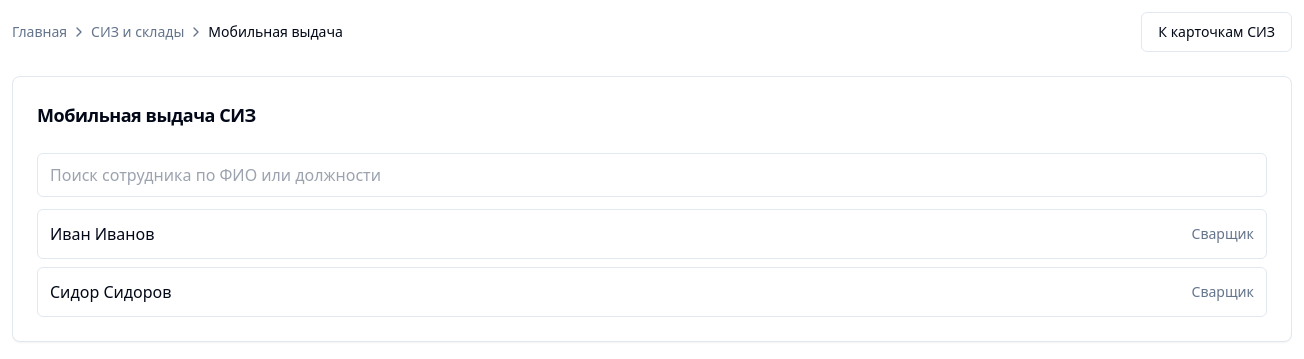
MobileIssuePage — worker step › filters workers by query
Check: the text "Иван Иванов" is shown, box [50,222,154,246]
Type "сидор" into the search field labelled "Поиск сотрудника" at (652, 175), box [37,153,1267,197]
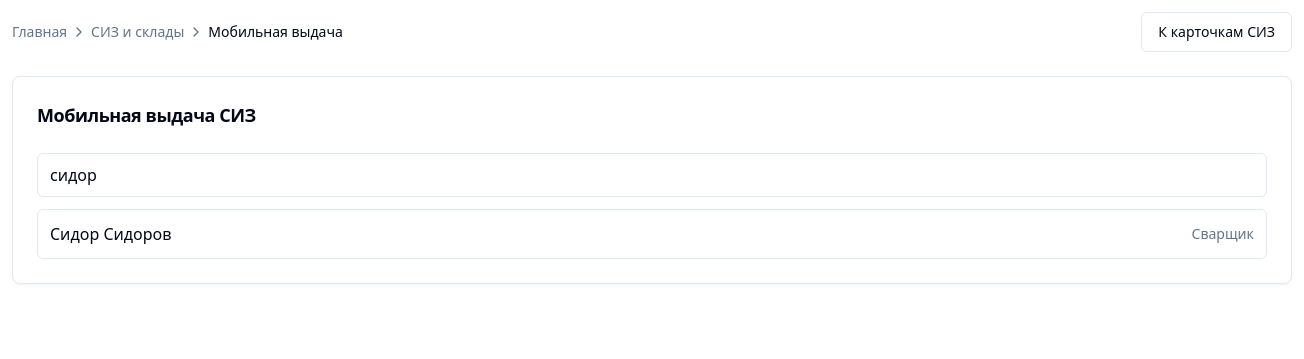
Check: the text "Сидор Сидоров" is shown, box [50,222,172,246]
Check: the button "Иван Иванов" is gone
